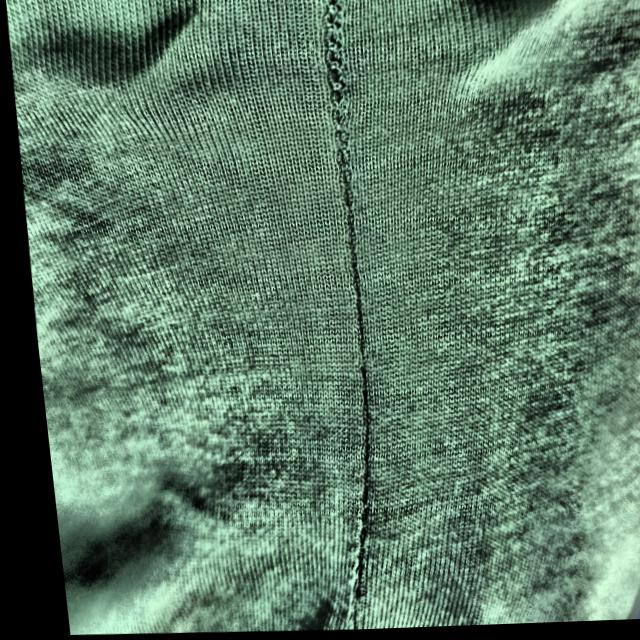Stitch: (306, 0, 372, 259)
